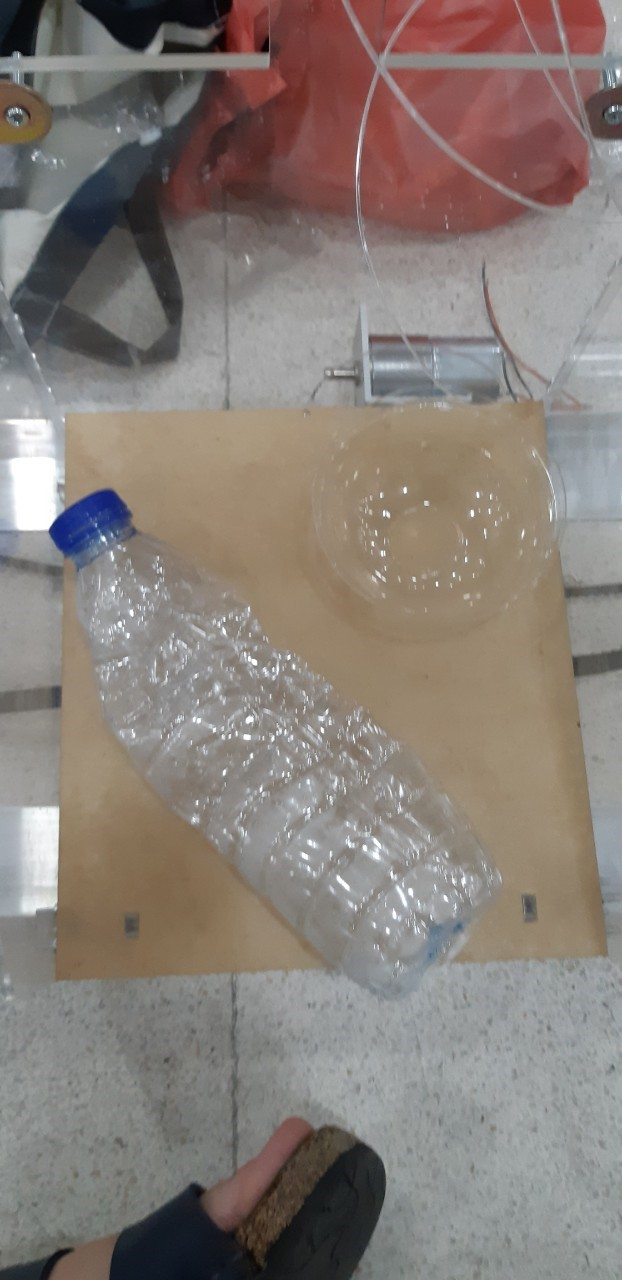PlasticBottle: (54, 491, 482, 991)
